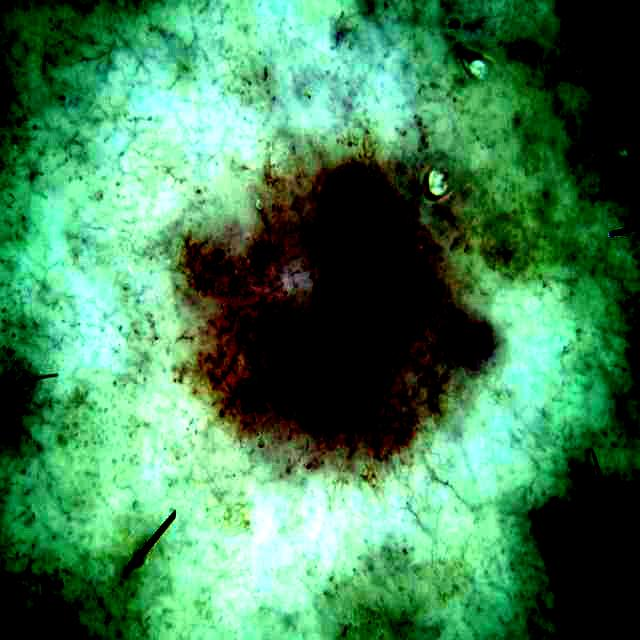DF: (180, 165, 497, 470)
